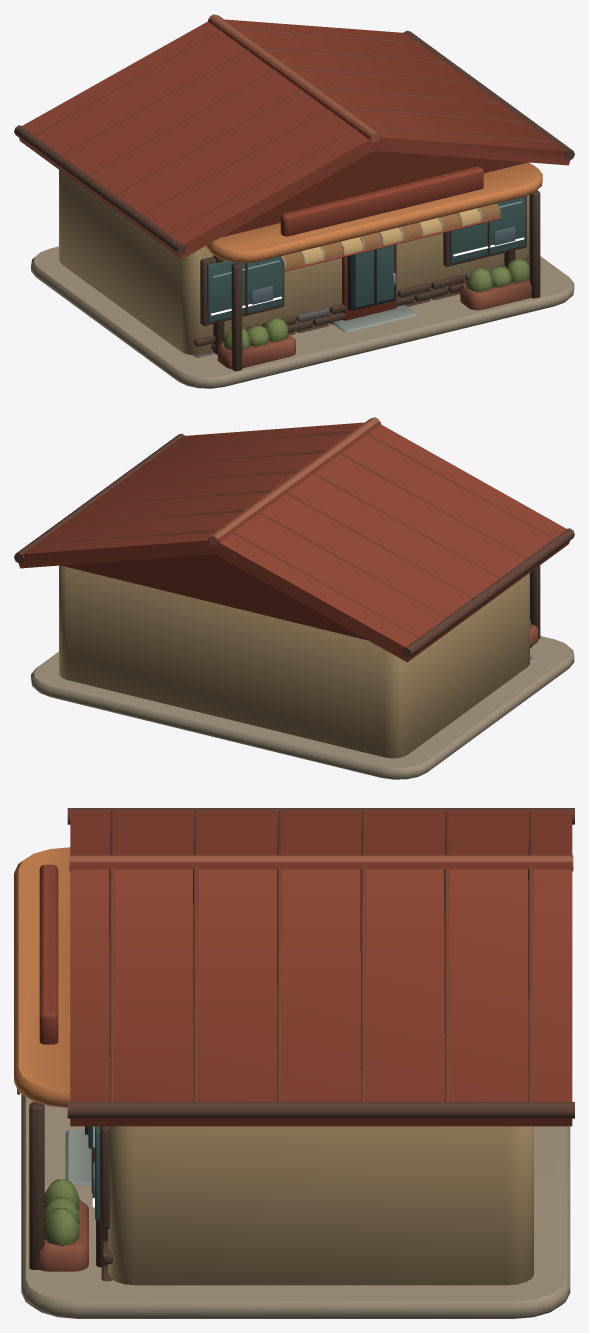
Rendered from valley_restaurant.glb.
3 renders of one model, top to bottom at view 1: azimuth 30°, elevation 25°; view 2: azimuth 150°, elevation 25°; view 3: azimuth 270°, elevation 25°, orthographic. The views are drawn at different scales.
Parts seen in each view (by area): view 1: Restaurant; view 2: Restaurant; view 3: Restaurant.
Boxes of the visible parts, <box> form: Restaurant: <box>14,14,574,388</box>; Restaurant: <box>14,417,574,779</box>; Restaurant: <box>14,808,574,1318</box>.
Size of the model in its own units: 8.38 by 4.09 by 6.59.
